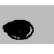correct: (2, 17, 36, 42)
